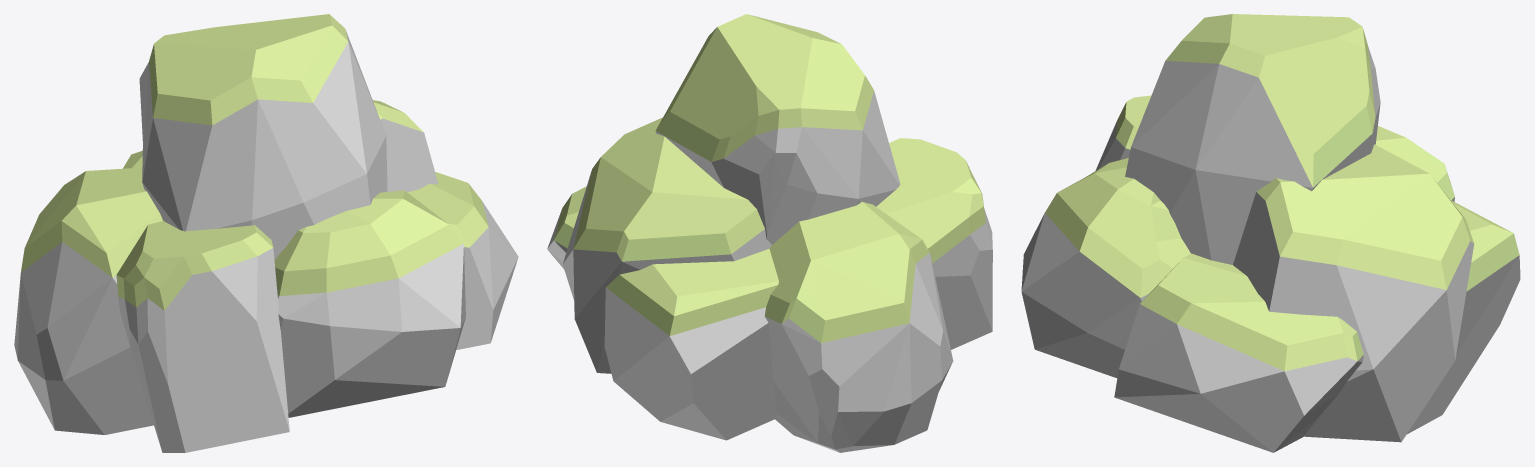
Rendered from rock_moss_grown_09.glb.
3 renders of one model, left to right at view 1: azimuth 30°, elevation 25°; view 2: azimuth 150°, elevation 25°; view 3: azimuth 270°, elevation 25°, orthographic. The views are drawn at different scales.
Parts seen in each view (by area): view 1: PP_Rock_Moss_Grown_09.002; view 2: PP_Rock_Moss_Grown_09.002; view 3: PP_Rock_Moss_Grown_09.002.
Boxes of the visible parts, box(x1,y1,x2,y2) form: PP_Rock_Moss_Grown_09.002: box(14, 14, 518, 452); PP_Rock_Moss_Grown_09.002: box(547, 14, 992, 452); PP_Rock_Moss_Grown_09.002: box(1021, 14, 1520, 452).
Bounding box in the file's own units: 1.31 × 1.09 × 1.27.
